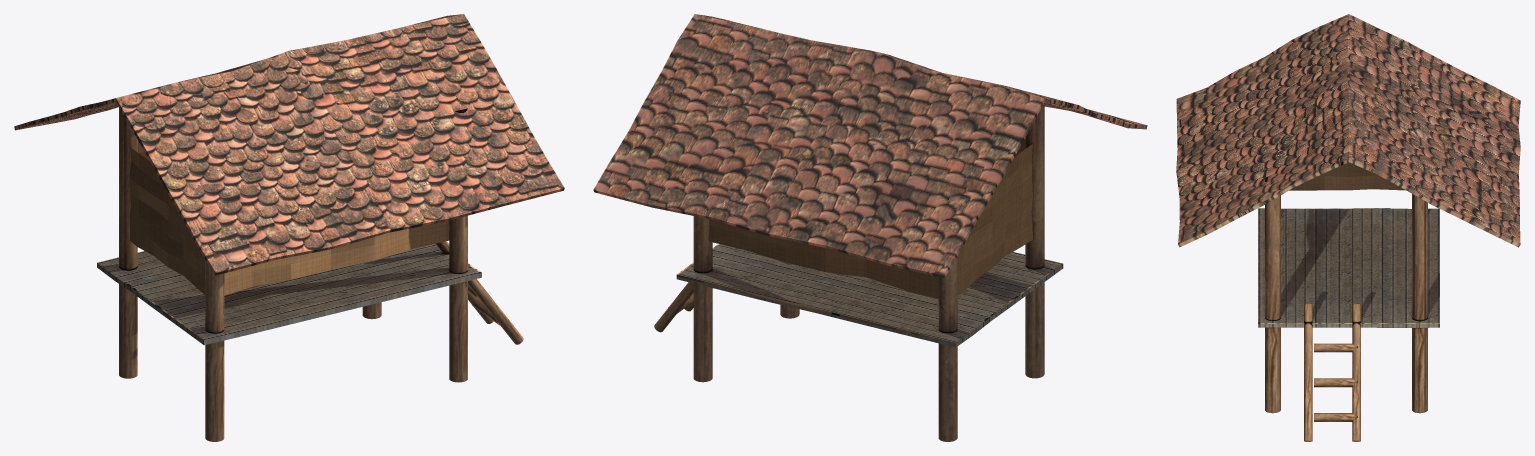
Rendered from house1.glb.
The picture shows the model from 3 angles, left to right: view 1: azimuth 30°, elevation 25°; view 2: azimuth 150°, elevation 25°; view 3: azimuth 270°, elevation 25°; orthographic projection. The views are drawn at different scales.
Parts seen in each view (by area): view 1: Plane.001_Baked_5, Plane_Baked_0, Plane.002_Baked_6, Cylinder.001_Baked_2, Cylinder.004_Baked_4, Cylinder.002_Baked_3, Cylinder.006_Baked_7; view 2: Plane.001_Baked_5, Plane_Baked_0, Plane.002_Baked_6, Cylinder.004_Baked_4, Cylinder.001_Baked_2, Cylinder.003_Baked_1, Cylinder.006_Baked_7; view 3: Plane.001_Baked_5, Plane_Baked_0, Cylinder.006_Baked_7, Cylinder.003_Baked_1, Cylinder.002_Baked_3, Plane.002_Baked_6.
Boxes of the visible parts, box(x1,y1,x2,y2) form: Plane.001_Baked_5: box(14, 14, 564, 275); Plane_Baked_0: box(97, 243, 481, 345); Plane.002_Baked_6: box(129, 140, 449, 295); Cylinder.001_Baked_2: box(119, 107, 137, 378); Cylinder.004_Baked_4: box(205, 170, 224, 441); Cylinder.002_Baked_3: box(449, 108, 467, 382); Cylinder.006_Baked_7: box(436, 241, 523, 344); Plane.001_Baked_5: box(593, 14, 1147, 278); Plane_Baked_0: box(676, 244, 1063, 347); Plane.002_Baked_6: box(709, 139, 1032, 298); Cylinder.004_Baked_4: box(1025, 104, 1044, 378); Cylinder.001_Baked_2: box(938, 256, 957, 441); Cylinder.003_Baked_1: box(693, 216, 712, 382); Cylinder.006_Baked_7: box(654, 282, 693, 332); Plane.001_Baked_5: box(1176, 14, 1520, 247); Plane_Baked_0: box(1258, 208, 1439, 327); Cylinder.006_Baked_7: box(1304, 304, 1360, 441); Cylinder.003_Baked_1: box(1412, 194, 1427, 413); Cylinder.002_Baked_3: box(1265, 177, 1280, 413); Plane.002_Baked_6: box(1289, 162, 1405, 190).
Bounding box in the file's own units: 3.17 × 2.56 × 2.89.
Materials: 1 (1 with a texture image).
